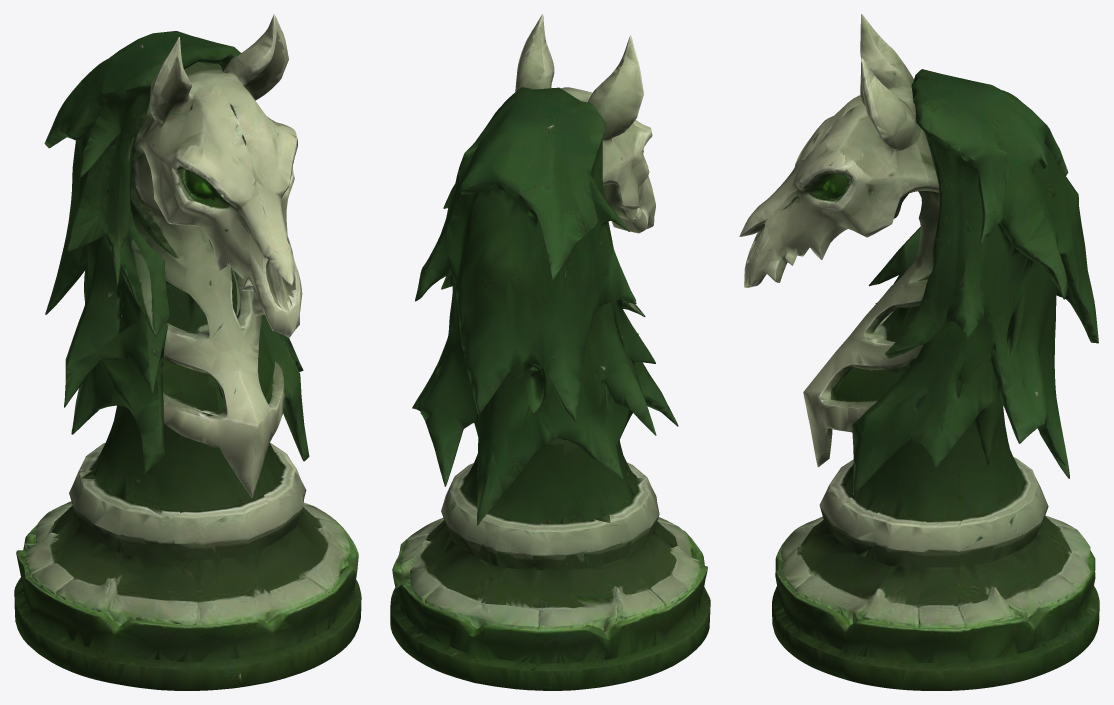
The model's file is soul_eater.glb.
The picture shows the model from 3 angles, left to right: view 1: azimuth 30°, elevation 25°; view 2: azimuth 150°, elevation 25°; view 3: azimuth 270°, elevation 25°; orthographic projection. The views are drawn at different scales.
Parts seen in each view (by area): view 1: Mesh_0; view 2: Mesh_0; view 3: Mesh_0.
Boxes of the visible parts, x1,y1,x2,y2 form: Mesh_0: (14,14,361,690); Mesh_0: (390,14,710,690); Mesh_0: (739,14,1099,690).
Size of the model in its own units: 0.5055 by 1 by 0.5568.
1 material, 1 textured.
